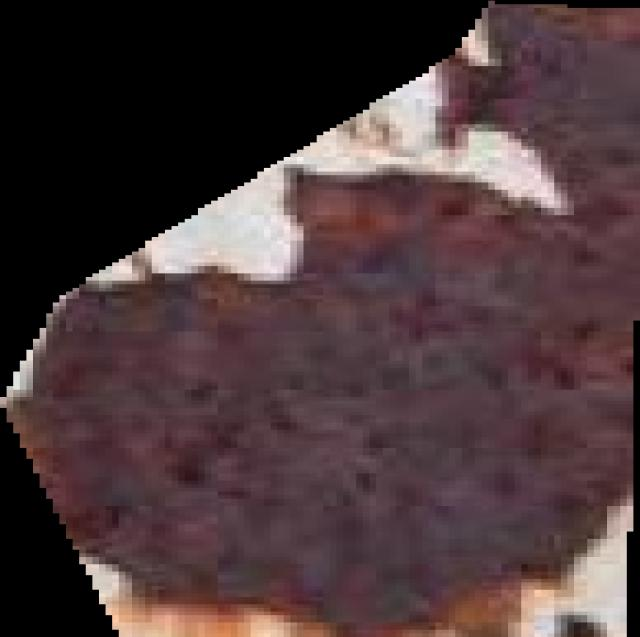Pitting Corrosion: (0, 1, 640, 637)
